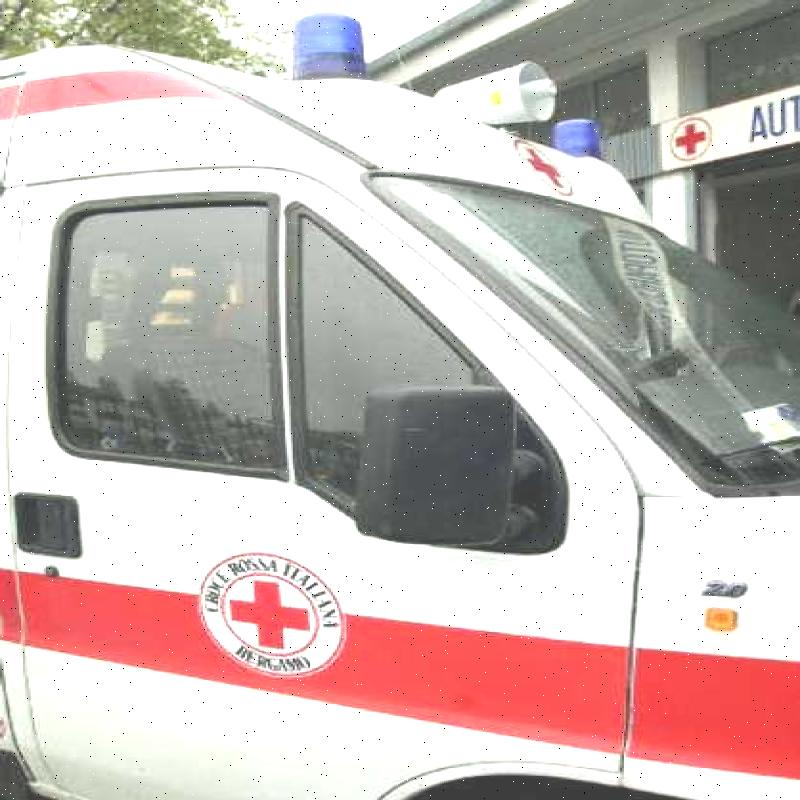AmbulanceSiren: (235, 0, 372, 103), (544, 114, 620, 188)
